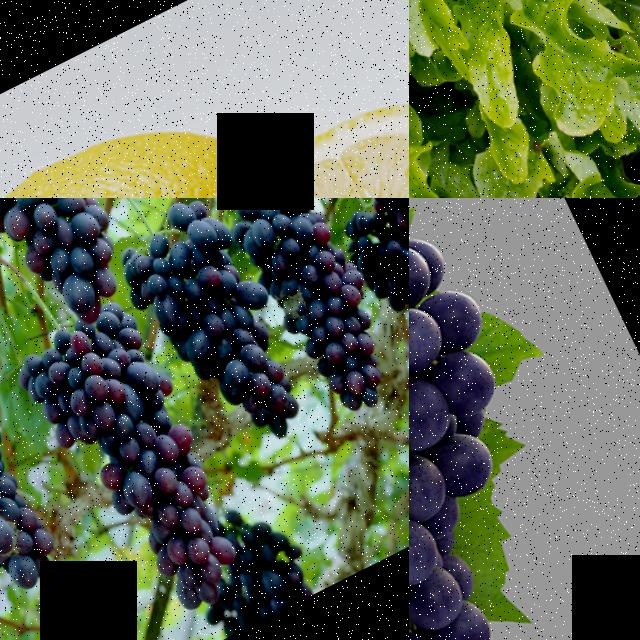grapes: (409, 198, 640, 640), (6, 294, 265, 622), (100, 198, 327, 467), (218, 198, 409, 423), (0, 328, 82, 635), (0, 198, 151, 342), (327, 198, 409, 364)
lemon: (201, 42, 409, 198), (0, 123, 265, 198)
lettuce: (409, 0, 640, 198)
